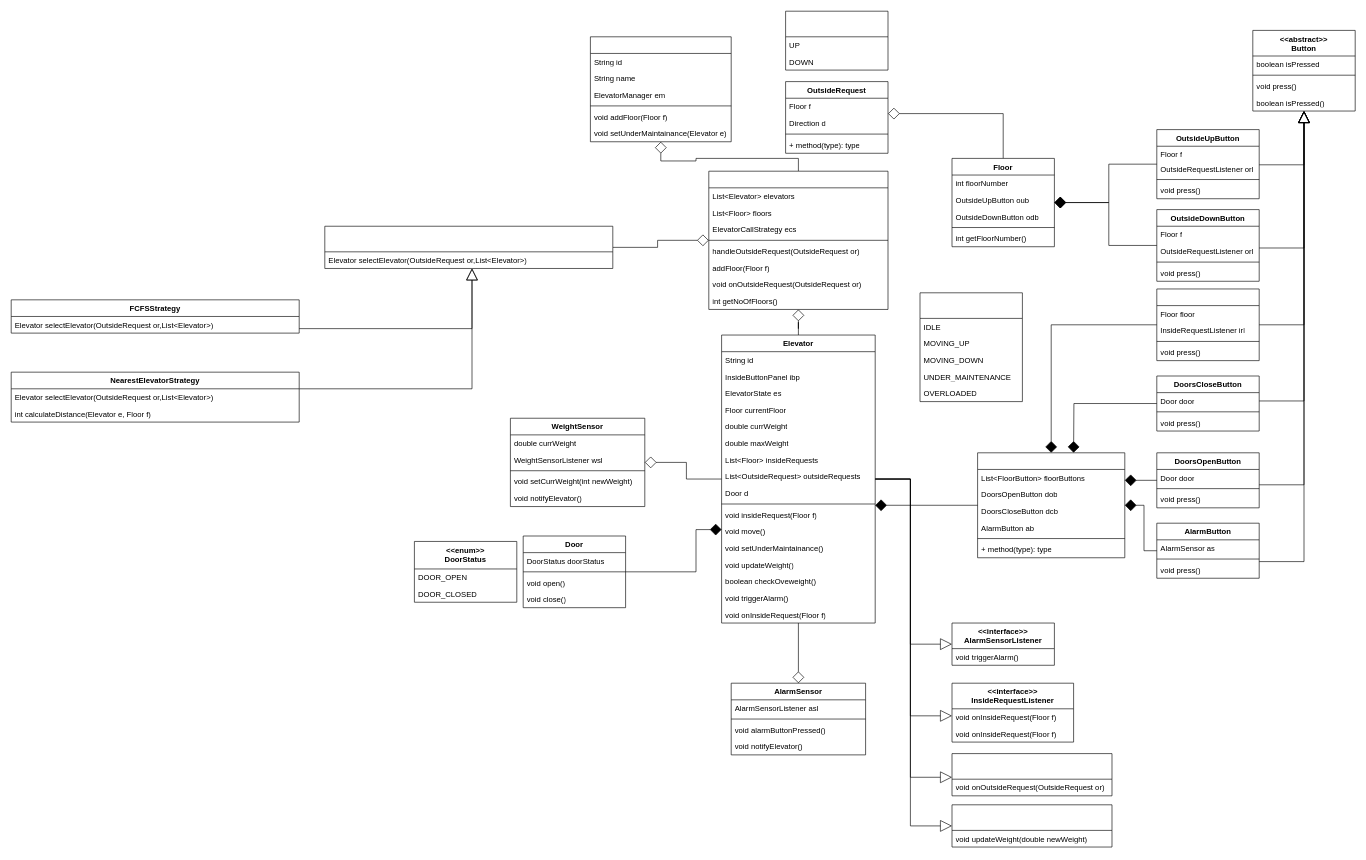
This 1366x860 diagram has some shape labels left out. The shapes that lost their labels are listed below. From the top down, each one's box as (x1, y1, x2, y2) in pixels, then its label:
(785, 11, 888, 70): <<enum>> Direction
(590, 36, 731, 142): Operator
(324, 226, 613, 268): <<interface>> ElevatorCallStrategy
(708, 171, 888, 309): ElevatorManager
(1156, 288, 1259, 361): FloorButton
(919, 292, 1022, 402): <<enum>> ElevatorState
(977, 452, 1125, 558): InsideButtonPanel
(951, 753, 1112, 796): <<interface>> OutsideRequestListener
(951, 804, 1112, 847): <<interface>> WeightSensorListener
